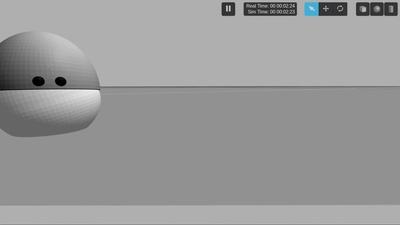mira_robot: (1, 31, 102, 137)
